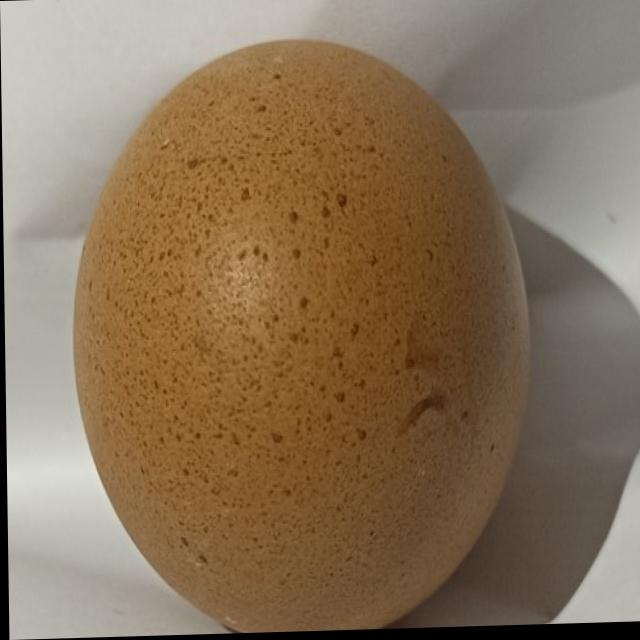unfresh: (58, 16, 527, 639)
